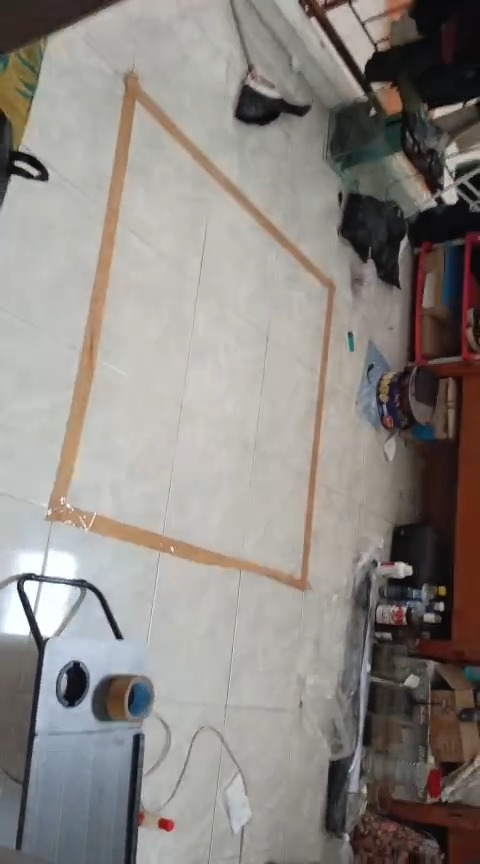floor marking: (46, 71, 335, 590)
